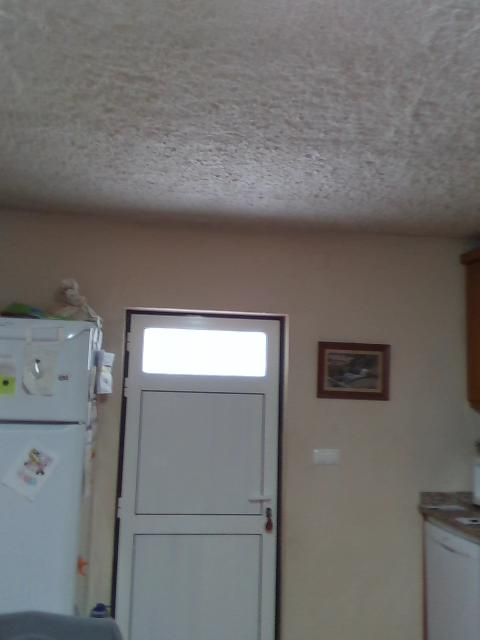door: (120, 314, 282, 636)
